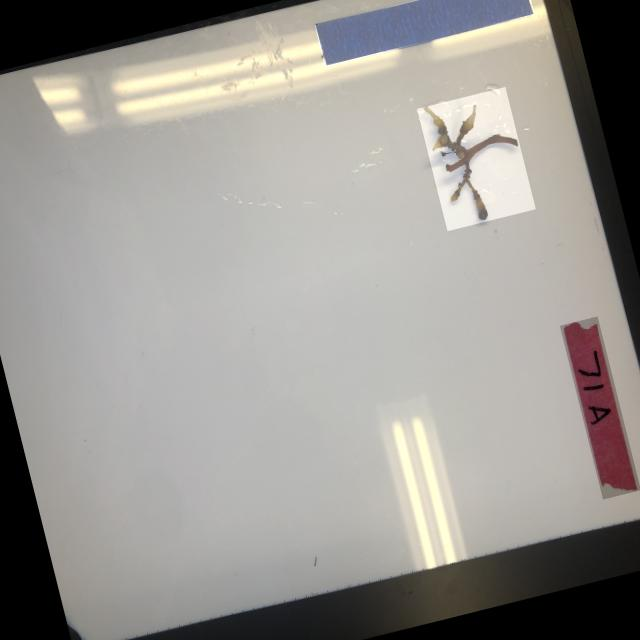index: (558, 316, 640, 499)
measure_label: (313, 0, 533, 66)
rachis_cluster: (416, 86, 534, 230)
